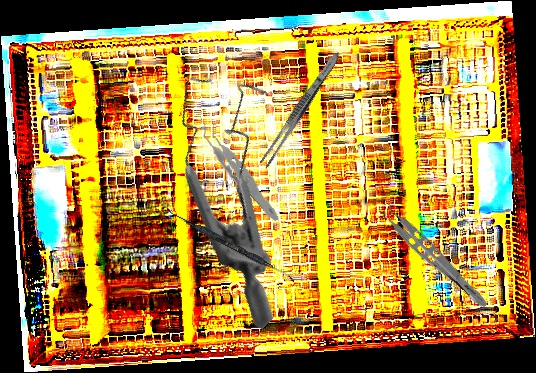Dressing Forceps: (257, 48, 344, 172)
Spatula Surgical: (167, 210, 298, 282)
Speculum: (101, 46, 383, 332)
Tissue Forceps: (373, 196, 497, 312), (200, 109, 281, 229)
